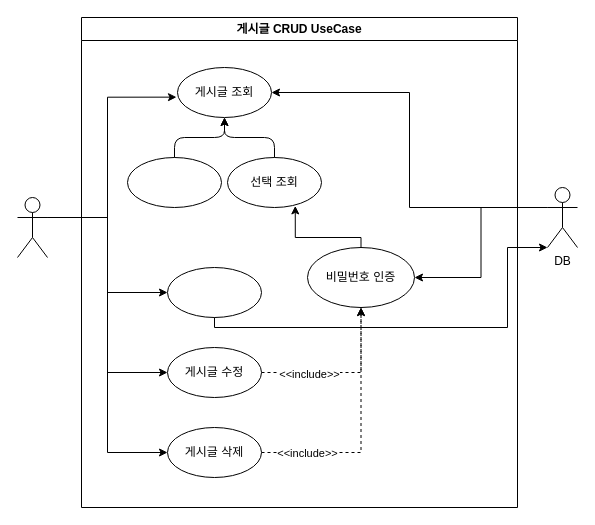
Image size: 595x525. Some labels were removed from this diagram. Each missing label, with the centre of its shape:
"Client" belongs at point 32,227.
"게시글 작성" belongs at point 214,292.
"전체 조회" belongs at point 174,182.
